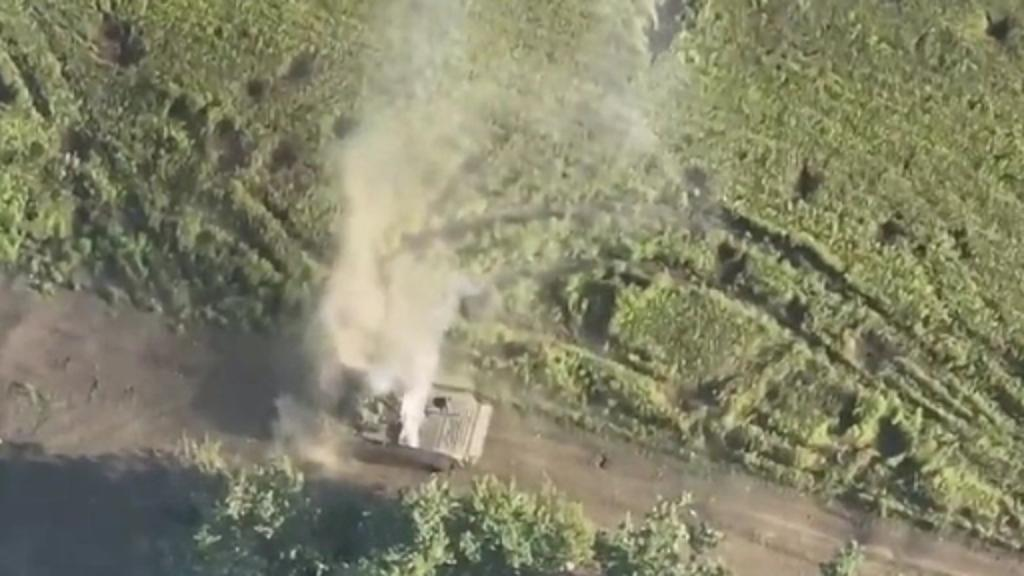APC-IFV: (306, 340, 494, 464)
